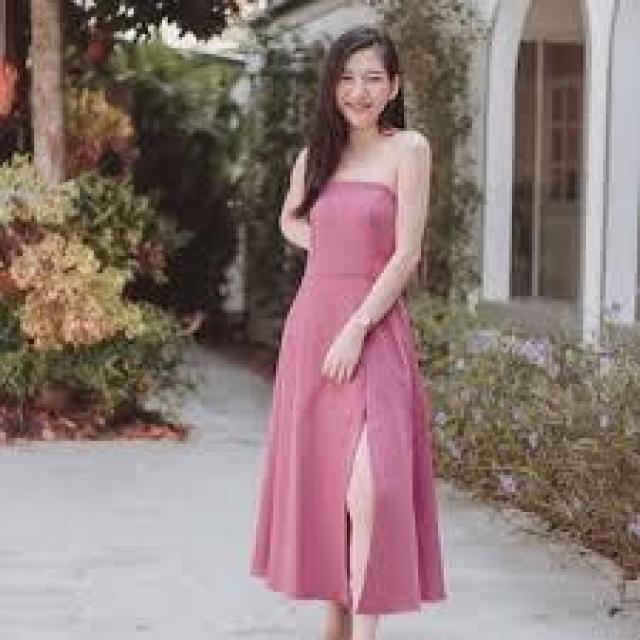dress: (233, 162, 464, 626)
